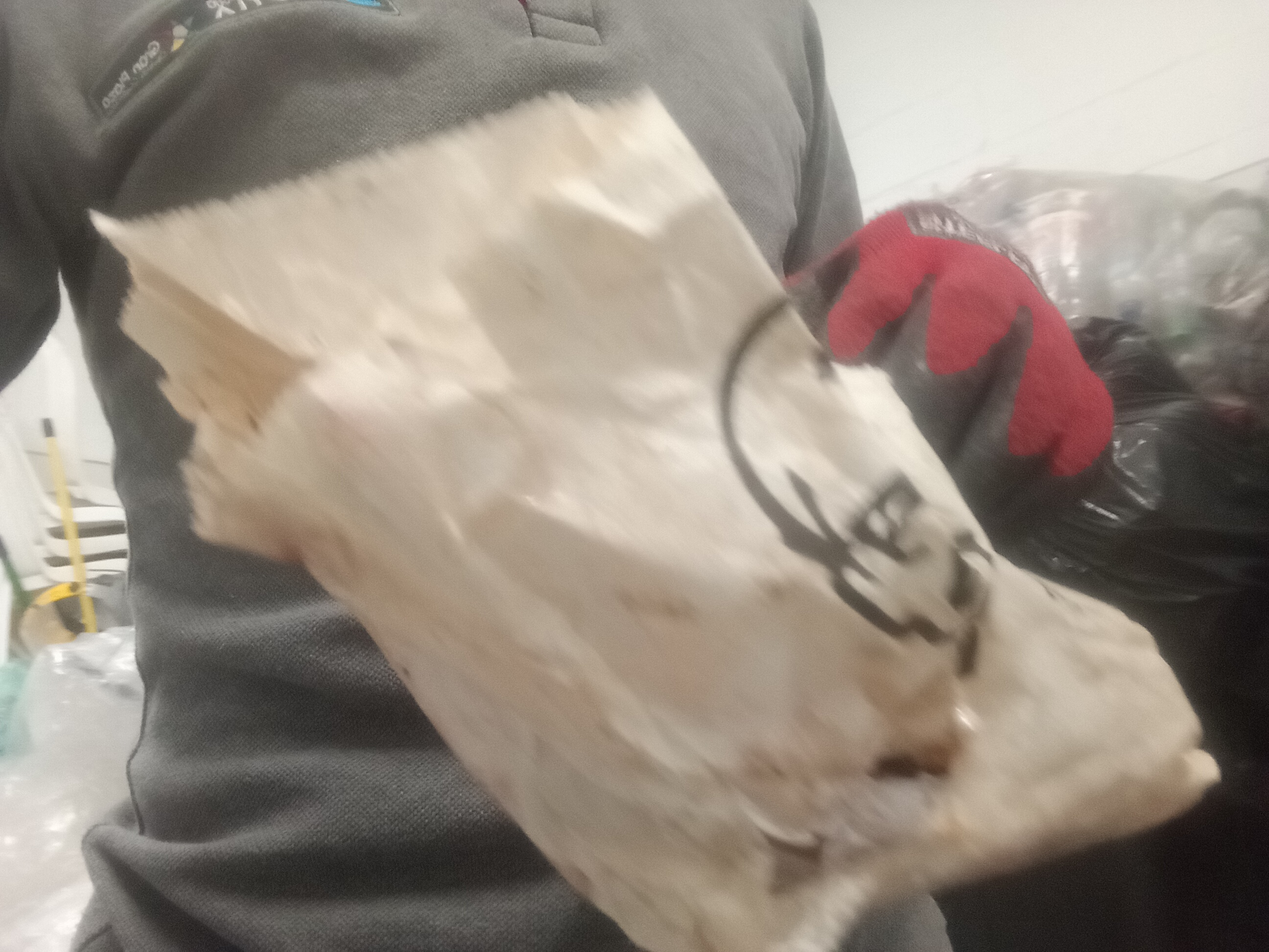Ordinario: (89, 94, 1223, 952)
